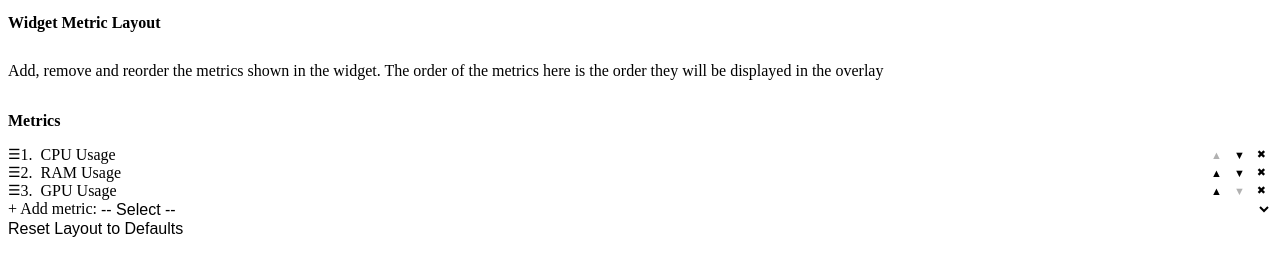
Test: LayoutPage.svelte › moves metric down and up via action buttons
// Click first item move down: 'cpu_pct' should swap with 'ram_pct'
Click the button titled "Move down" in the row of "CPU Usage" at (1239, 154), box [1228,146,1251,163]
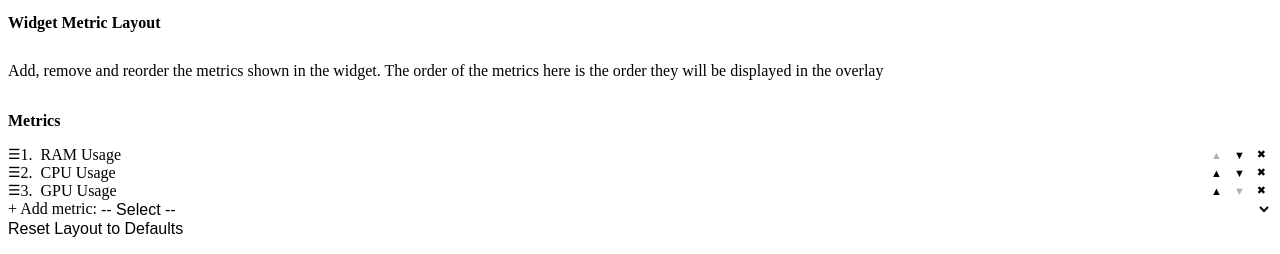
Check: the text with class "metric-name" reads "RAM Usage", box [41,146,121,162]
Check: the text with class "metric-name" reads "CPU Usage", box [41,164,116,180]
// Click second item move up: 'cpu_pct' swaps back with 'ram_pct'
Click the button titled "Move up" in the row of "CPU Usage" at (1216, 172), box [1205,164,1228,181]
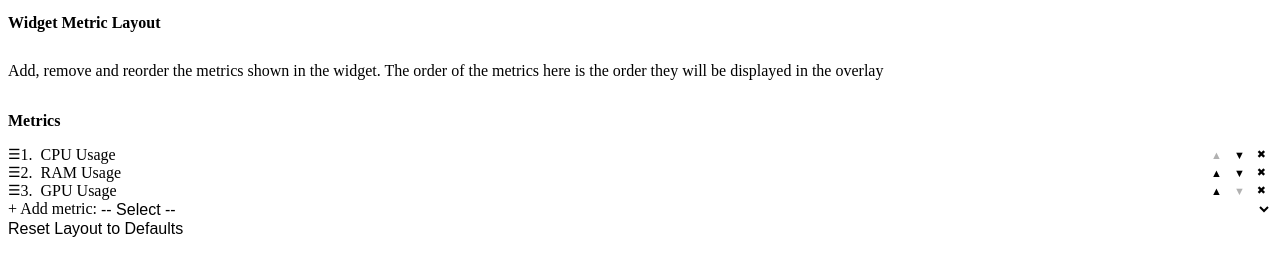
Check: the text with class "metric-name" reads "CPU Usage", box [41,146,116,162]
Check: the text with class "metric-name" reads "RAM Usage", box [41,164,121,180]
